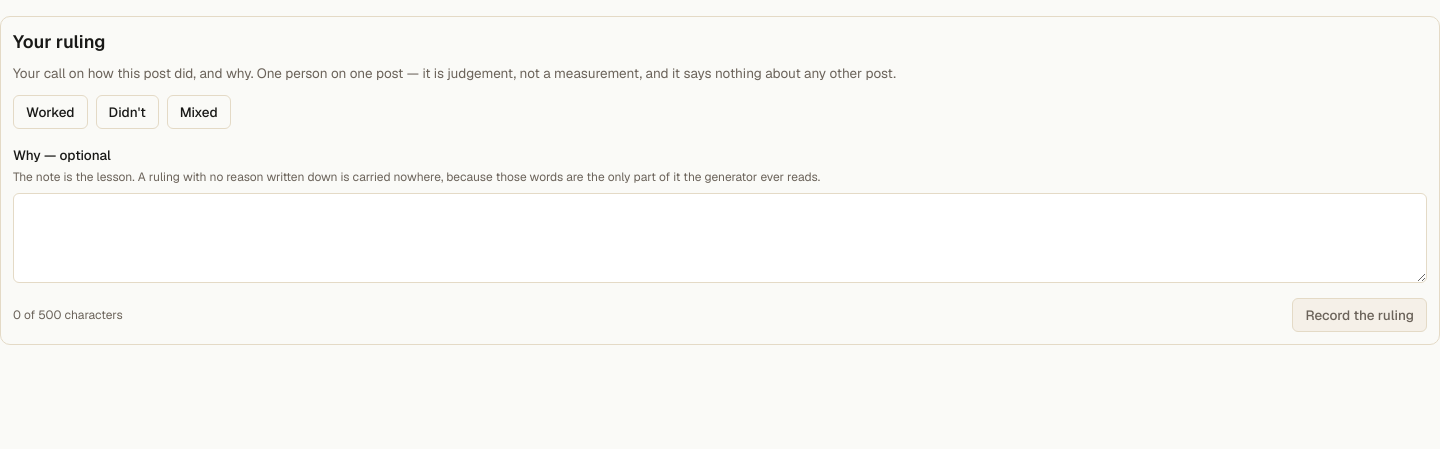
Test case: recording a verdict › takes the saved ruling from the row the route returned
Click the button "Mixed".
click(199, 112)  # box [167, 95, 231, 129]
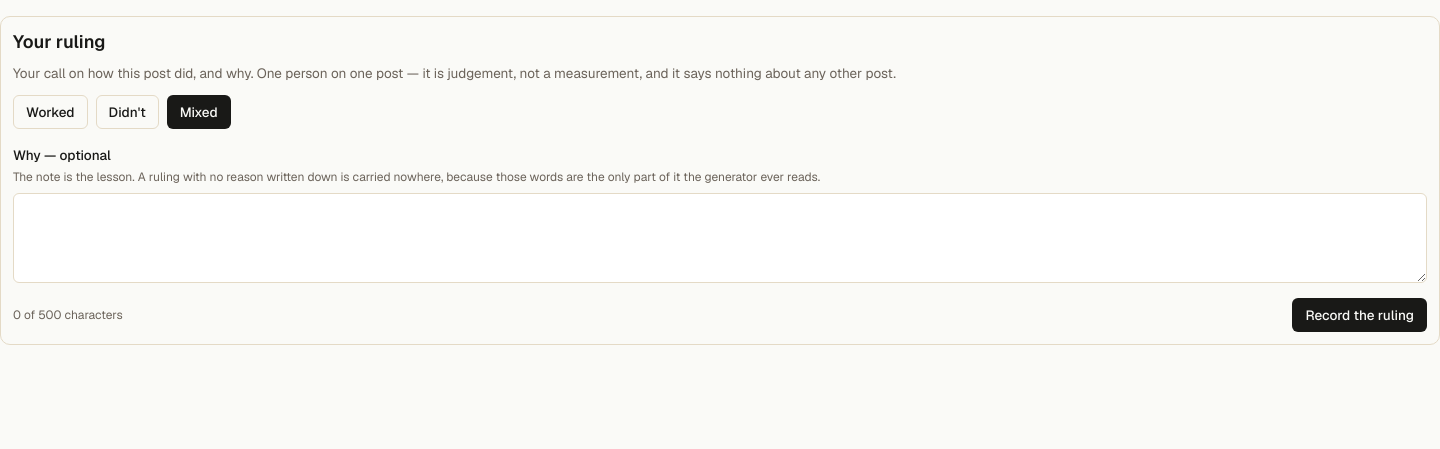
Click the button "Record the ruling".
click(1360, 315)  # box [1292, 298, 1427, 332]
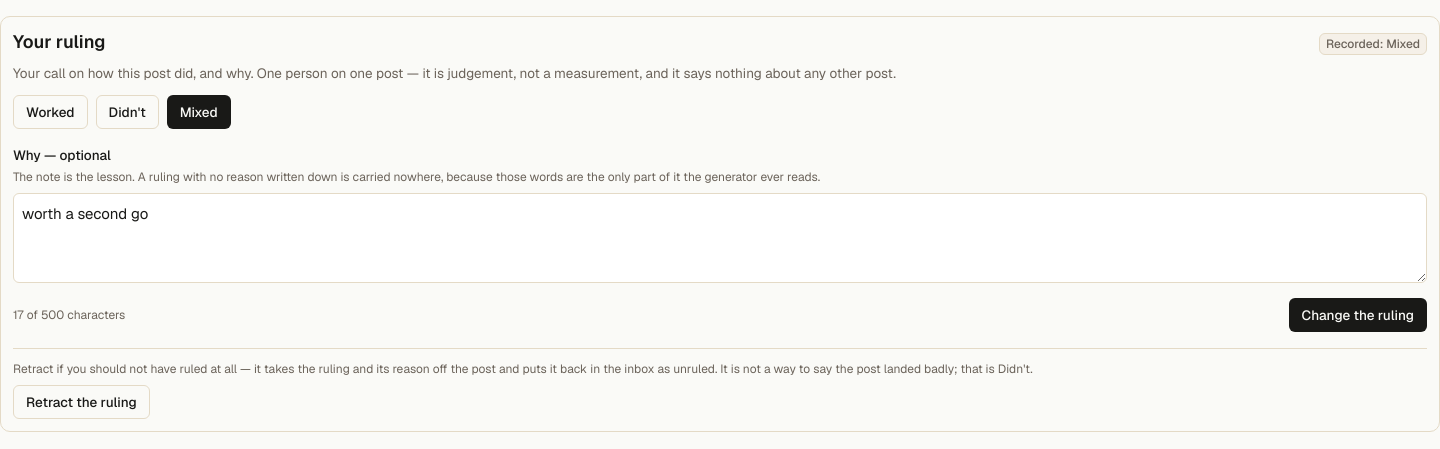
Now the text "Recorded: Mixed" is shown, box [1319, 33, 1427, 55]
Now the button "Change the ruling" is shown, box [1289, 298, 1427, 332]
Now the text box labelled "Why — optional" holds "worth a second go", box [13, 193, 1427, 283]
